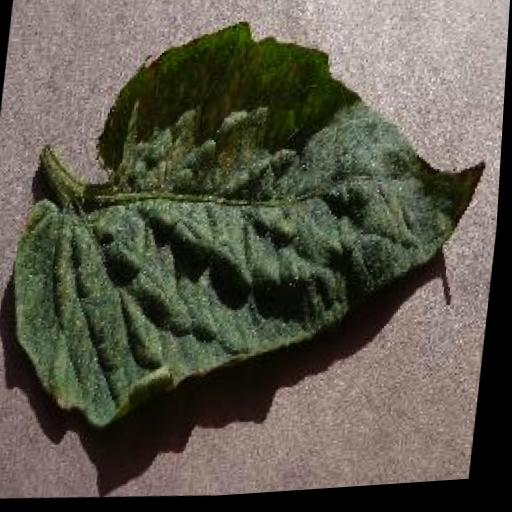Spider Mites: (2, 2, 504, 451)
